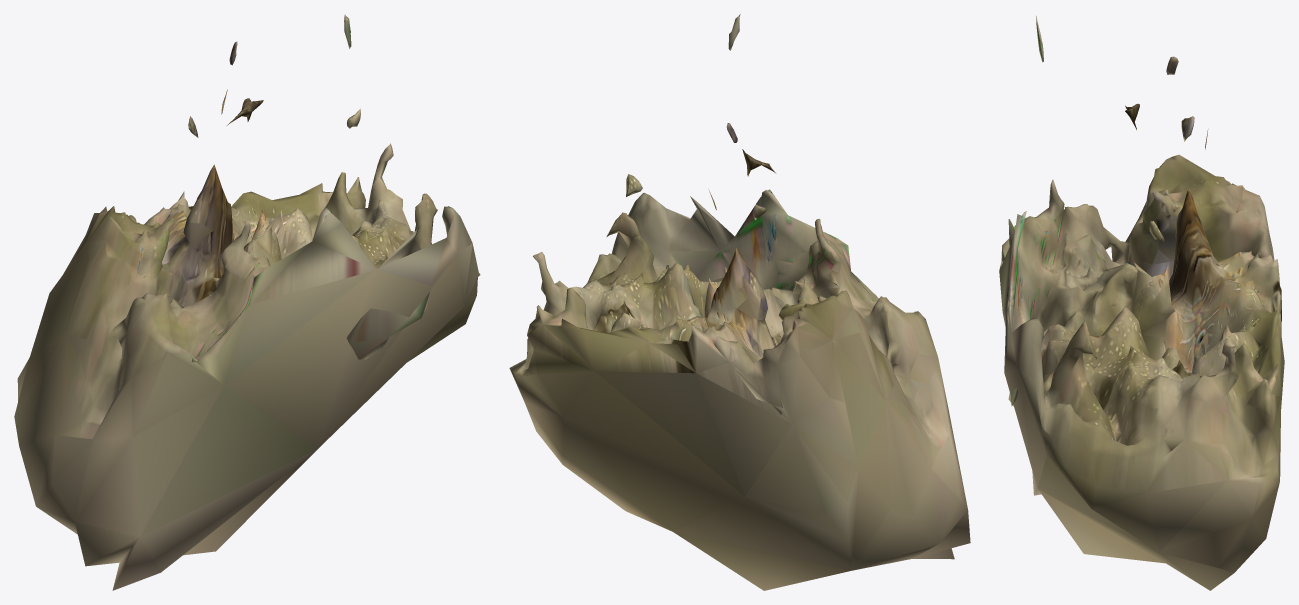
File: levelup125P190522.glb
3 renders of one model, left to right at view 1: azimuth 30°, elevation 25°; view 2: azimuth 150°, elevation 25°; view 3: azimuth 270°, elevation 25°, orthographic. The views are drawn at different scales.
Parts seen in each view (by area): view 1: levelup_1325P190522; view 2: levelup_1325P190522; view 3: levelup_1325P190522.
Part boxes in pixels (bbox=[...]): levelup_1325P190522: bbox=[14, 14, 480, 590]; levelup_1325P190522: bbox=[509, 14, 970, 590]; levelup_1325P190522: bbox=[999, 16, 1284, 590].
Size of the model in its own units: 15.81 by 19.3 by 8.32.
1 material, 1 textured.
